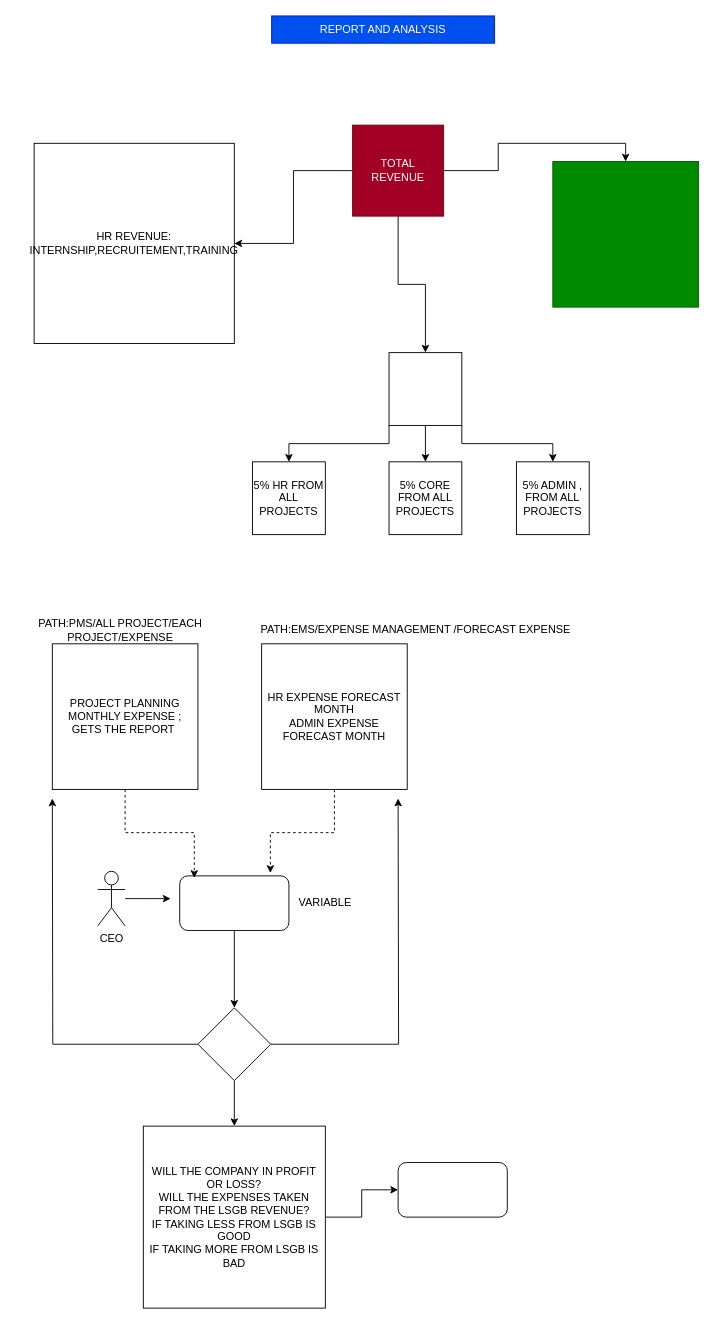
The diagram is 714 pixels wide and 1324 high, and some of its shapes have lost their labels. The box of each missing label's shape, as (x1, y1, x2, y2) in pixels:
COMPARES: (197, 1007, 271, 1081)
LSGB REVENUE: (552, 161, 698, 307)
PROJECT SHARE: (388, 352, 462, 425)
REPORT: (397, 1162, 507, 1217)
SELECTS A DATE : MAYBE 1 YEAR: (179, 875, 289, 930)
